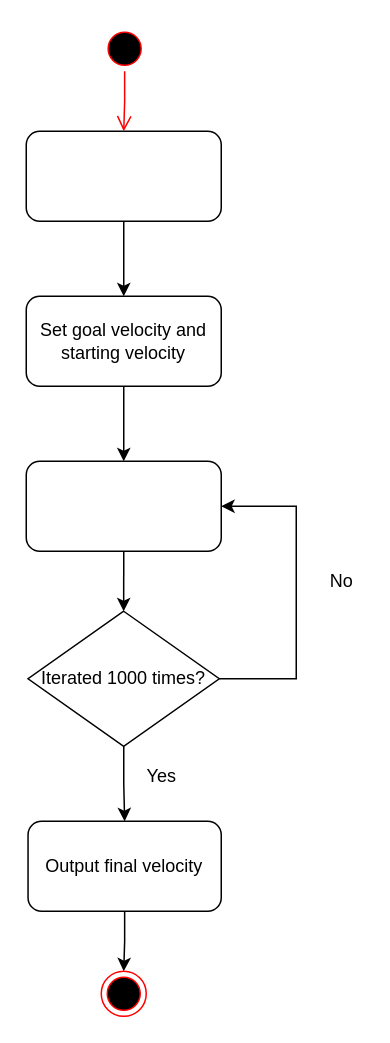
The diagram is 390 pixels wide and 1043 high, and some of its shapes have lost their labels. Each missing label, with the centre of its shape:
Calculate change in velocity for 1 time step + add to current velocity: the point at 123,505
Set PID gain values if necessary: the point at 123,175
